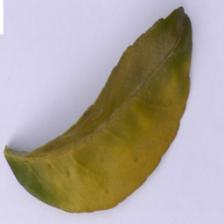greening: (42, 57, 192, 207)
